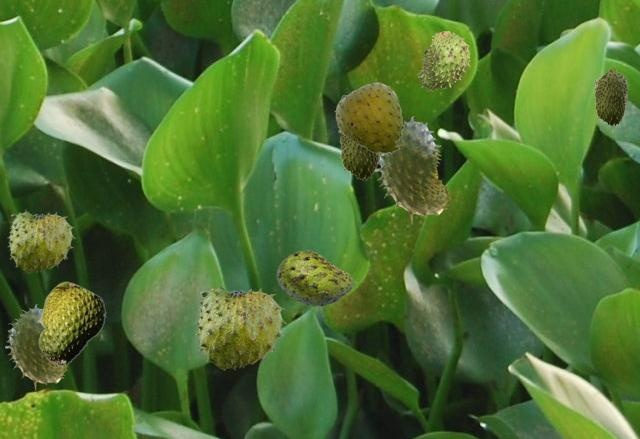guyabano: (376, 116, 450, 223), (195, 284, 285, 369), (37, 281, 105, 366), (5, 304, 66, 389), (334, 82, 403, 154), (276, 250, 353, 305), (7, 209, 74, 272), (417, 31, 469, 90), (338, 129, 380, 179), (593, 66, 628, 125)
